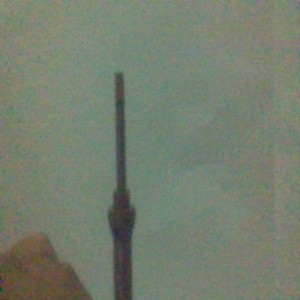obeng: (106, 72, 137, 300)
